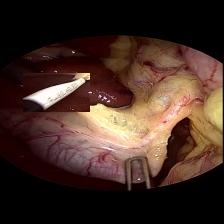Grasper: (122, 151, 156, 194)
Hook: (23, 72, 90, 111)
